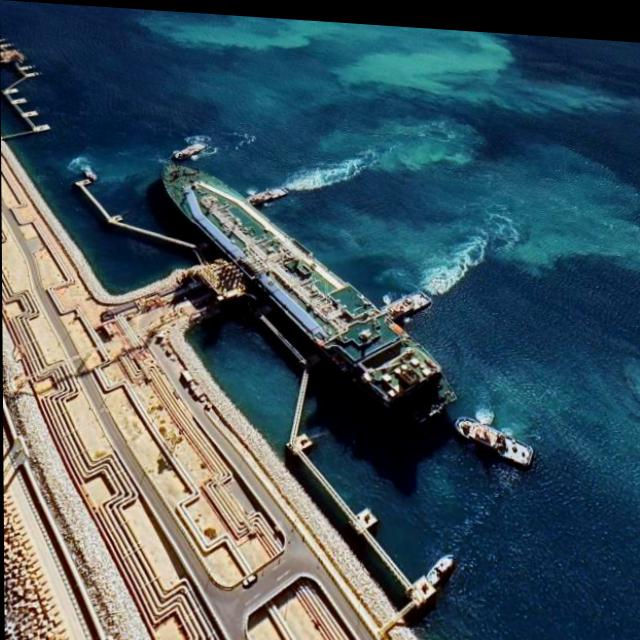ship2: (162, 160, 455, 420), (455, 413, 533, 461)
